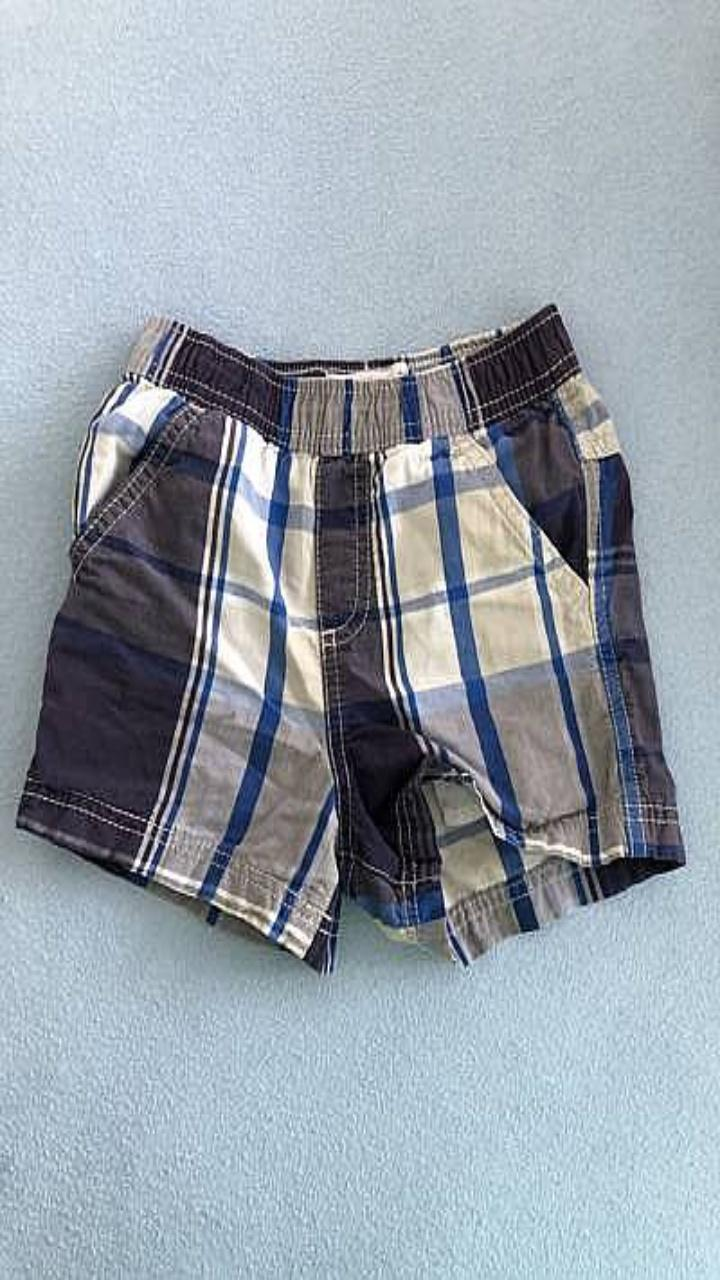Shorts: (16, 304, 684, 972)
